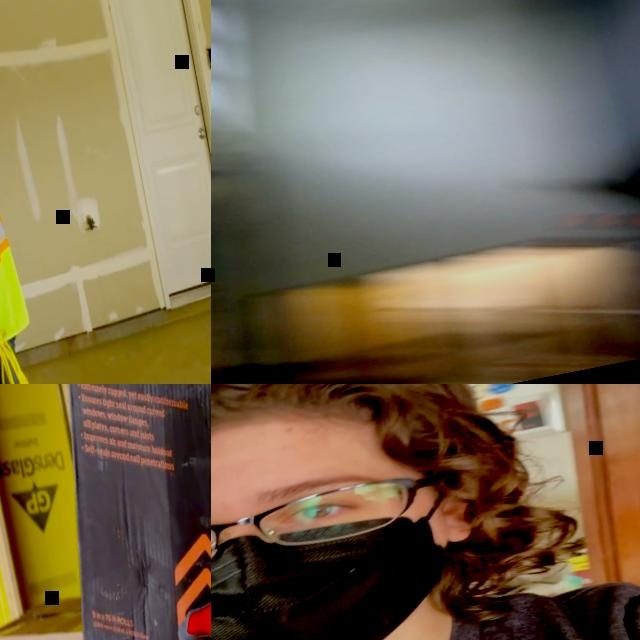Mask: (211, 489, 478, 640)
NO-Hardhat: (211, 384, 466, 513)
NO-Safety Vest: (211, 560, 640, 640)
Person: (211, 384, 640, 640), (78, 384, 211, 640), (0, 0, 71, 384)
Safety Vest: (168, 384, 211, 640)
